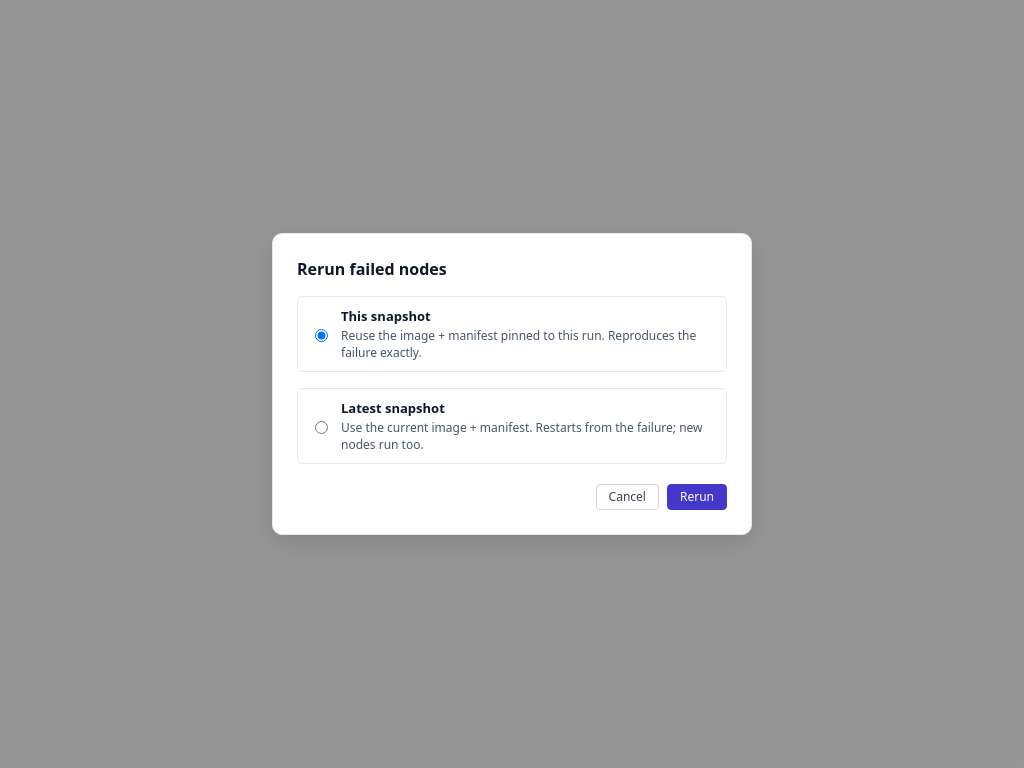
Test case: RerunFailedModal — Latest snapshot preview › says the preview is loading in a neutral strip and keeps Rerun disabled meanwhile
This screenshot has width=1024, height=768.
Click the radio button labelled "Latest snapshot": x=322, y=427 [315, 421, 328, 434]
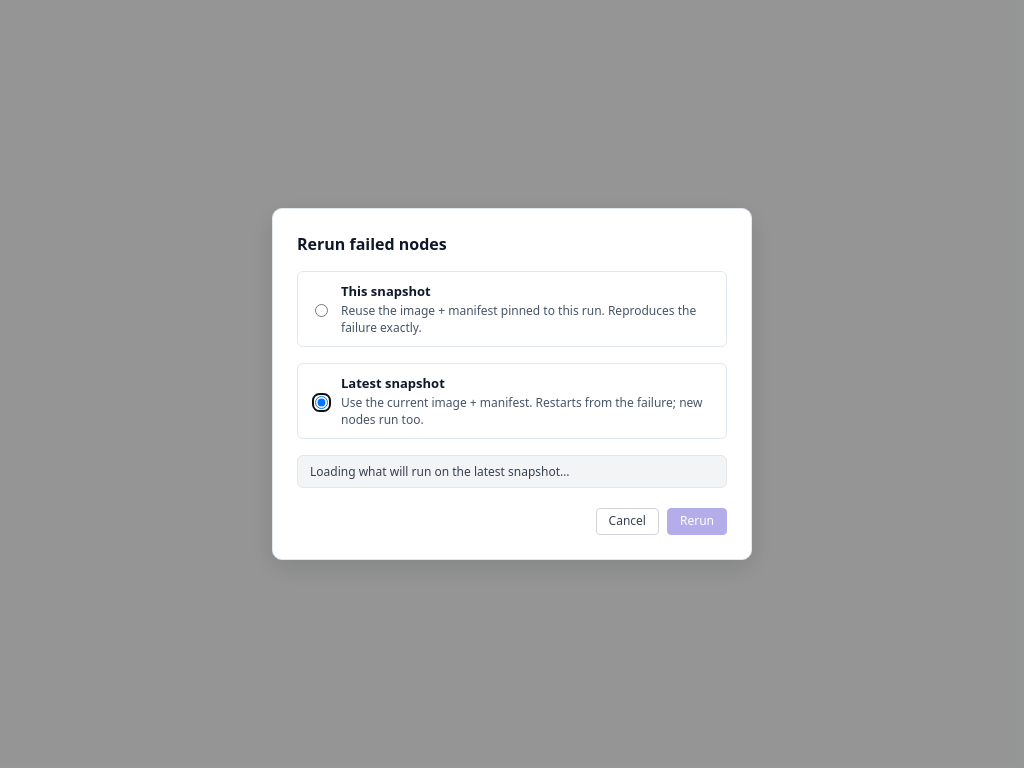
Result: the button "Rerun" is disabled at [667, 508, 727, 535]
